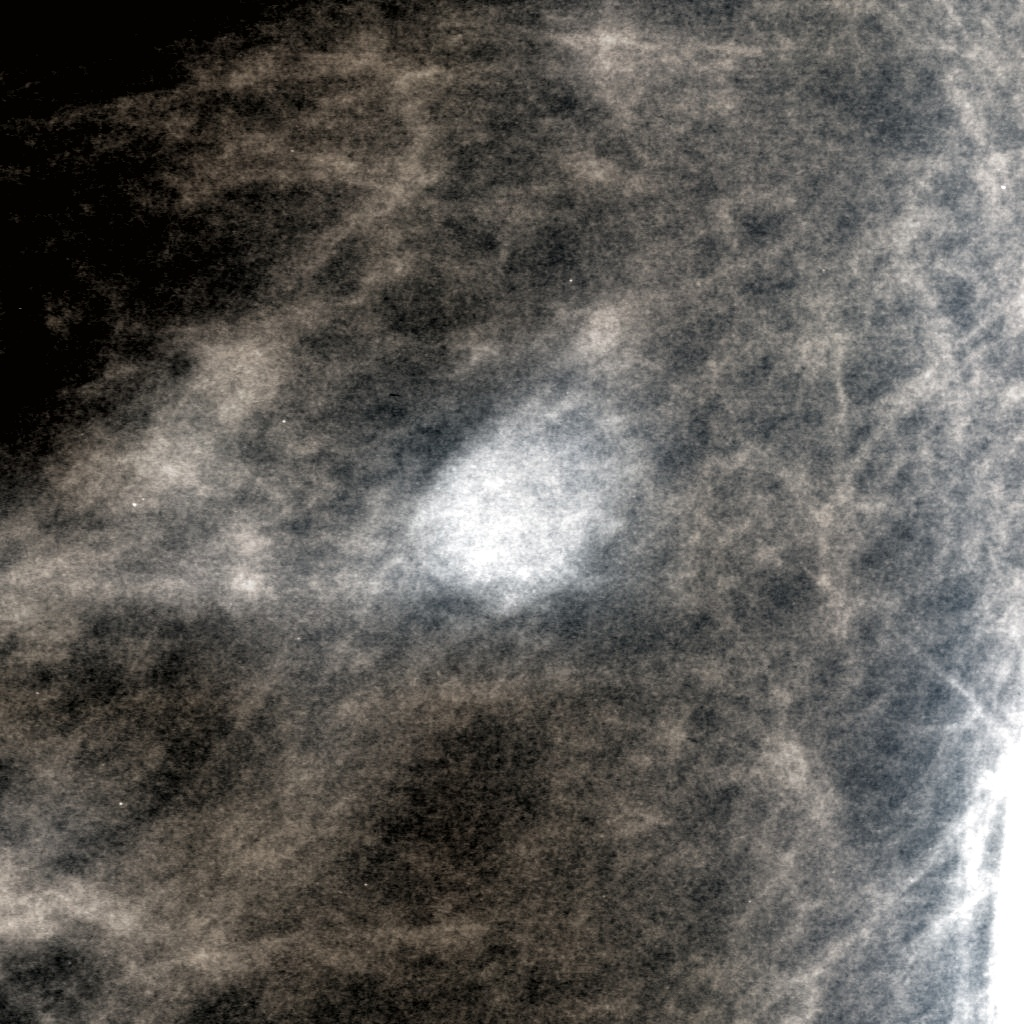tumor: (396, 402, 628, 622)
